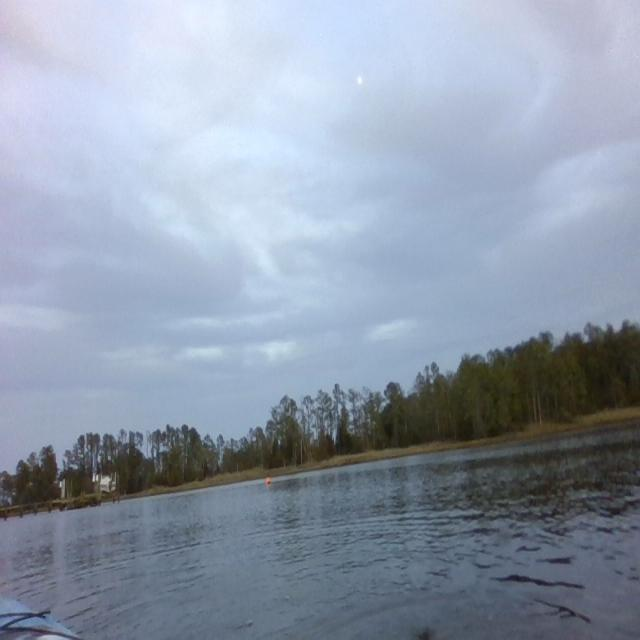Buoy: (265, 475, 272, 486)
